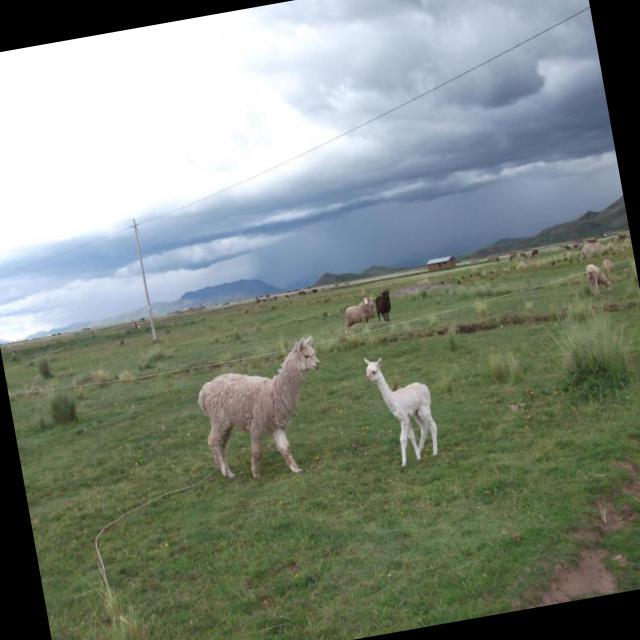alpaca: (192, 337, 338, 487), (358, 345, 444, 467), (338, 294, 378, 332), (372, 288, 397, 324)
